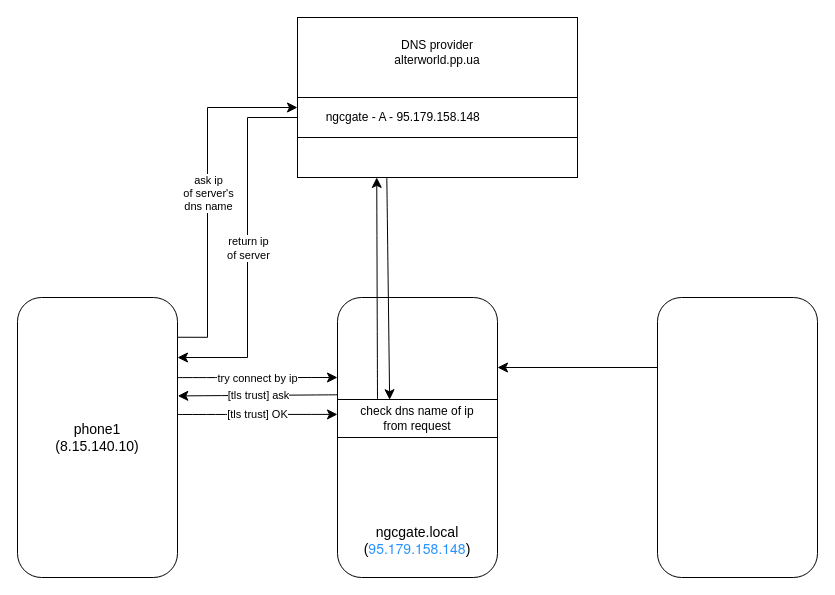
Some shapes in this 835 by 595 pixel diagram are drawn without their labels. Here are the shapes that lost their labels. From the top down, the box of each, then its label:
(296, 136, 578, 178): client - multicast [phone1, phone2]
(656, 296, 818, 578): phone2 (9.16.10.120)
